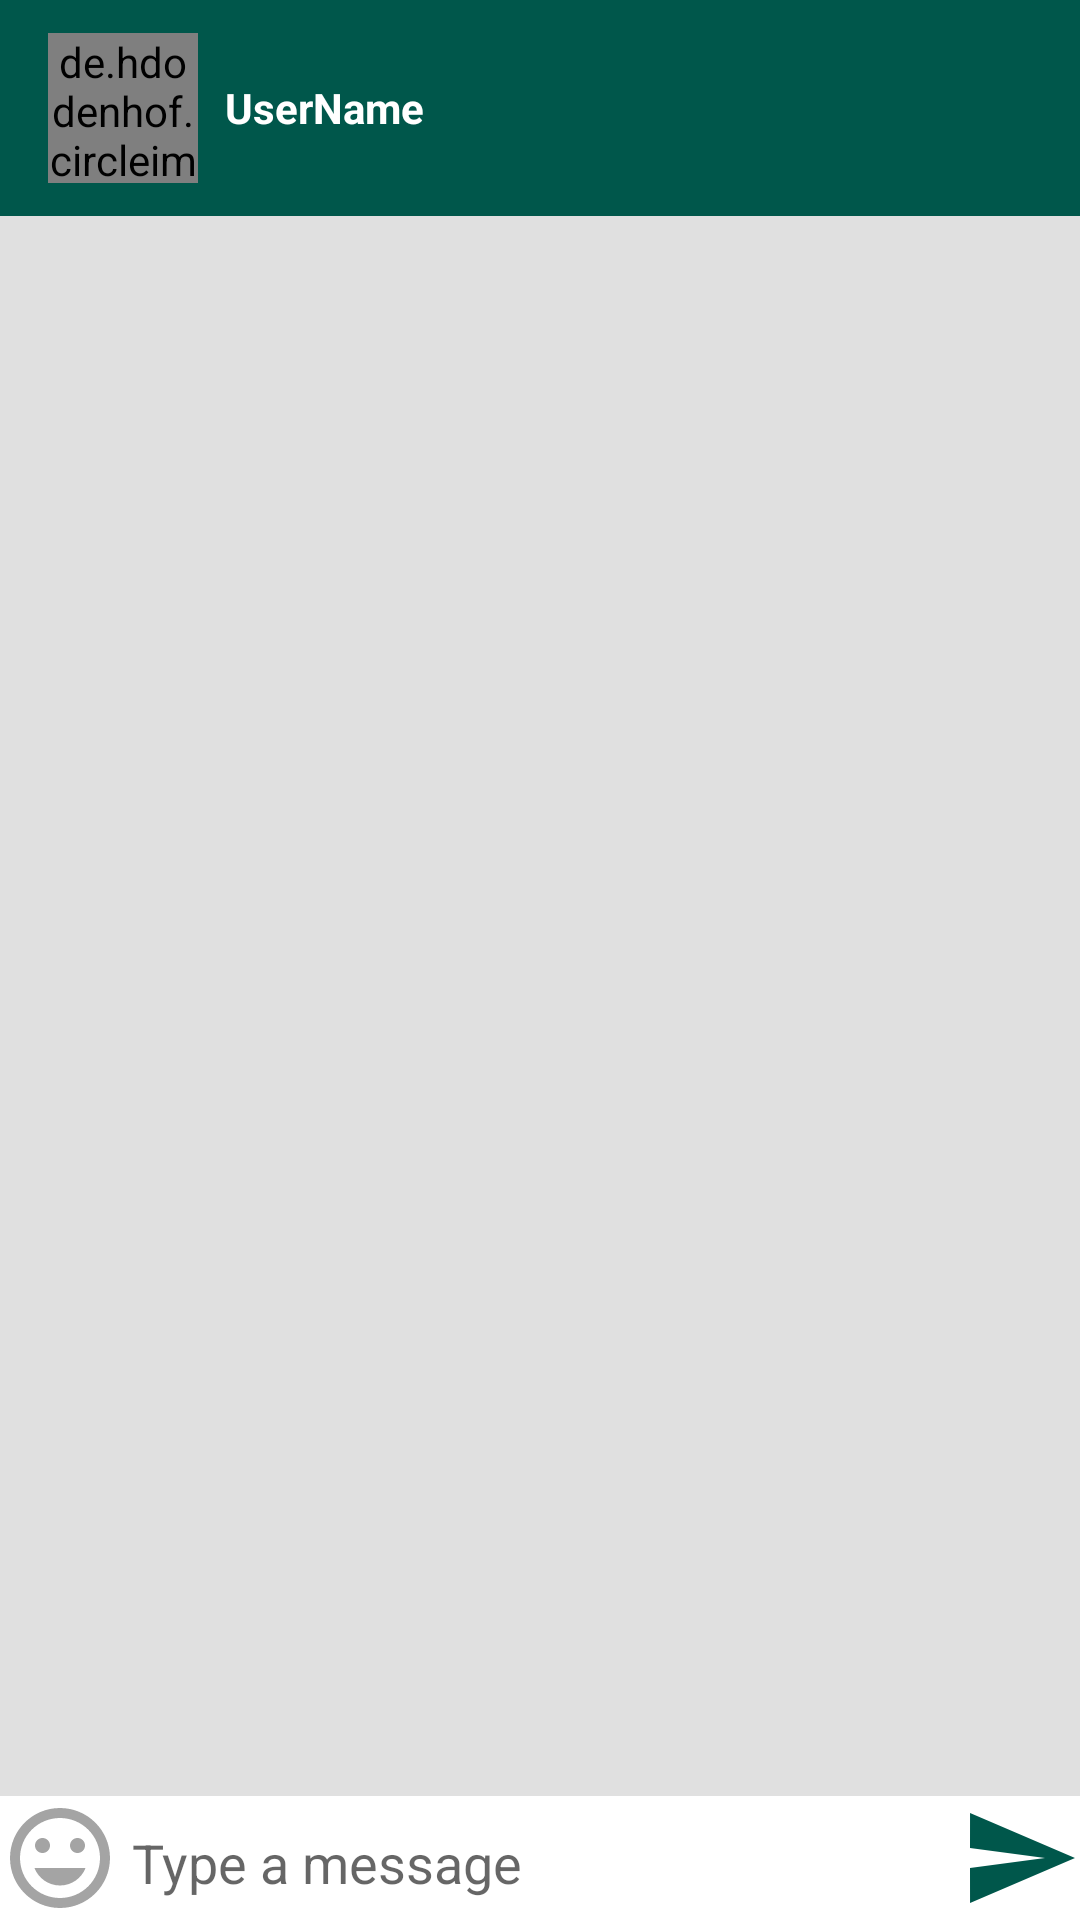

Icon click points for this 1080x1920 phone screenshot, format (x=x, y=y):
send: (x=1022, y=1858)
tag faces: (x=60, y=1858)
